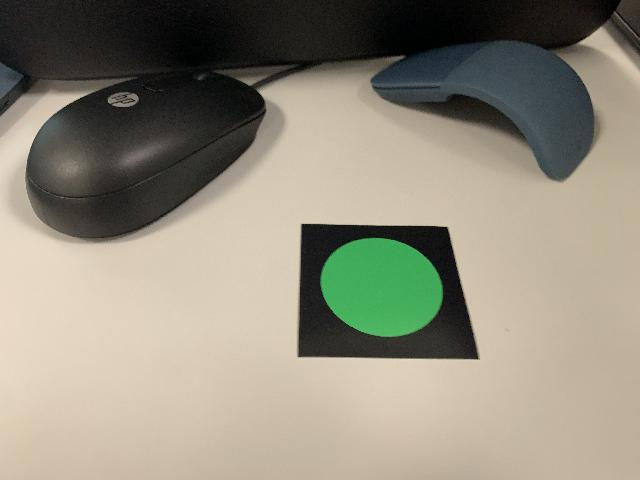go: (295, 221, 482, 365)
